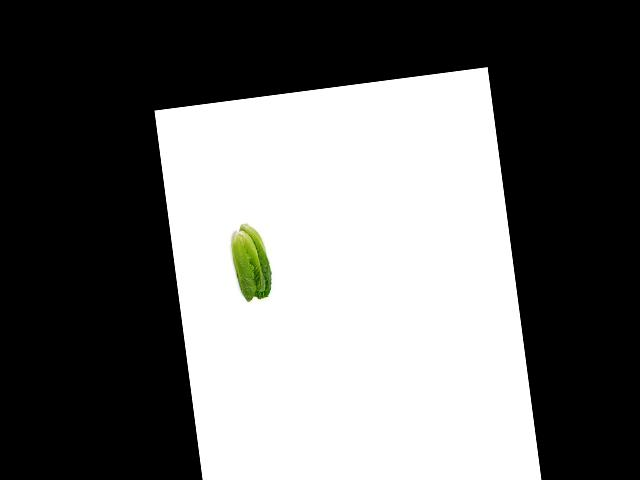lettuce: (223, 221, 274, 304)
